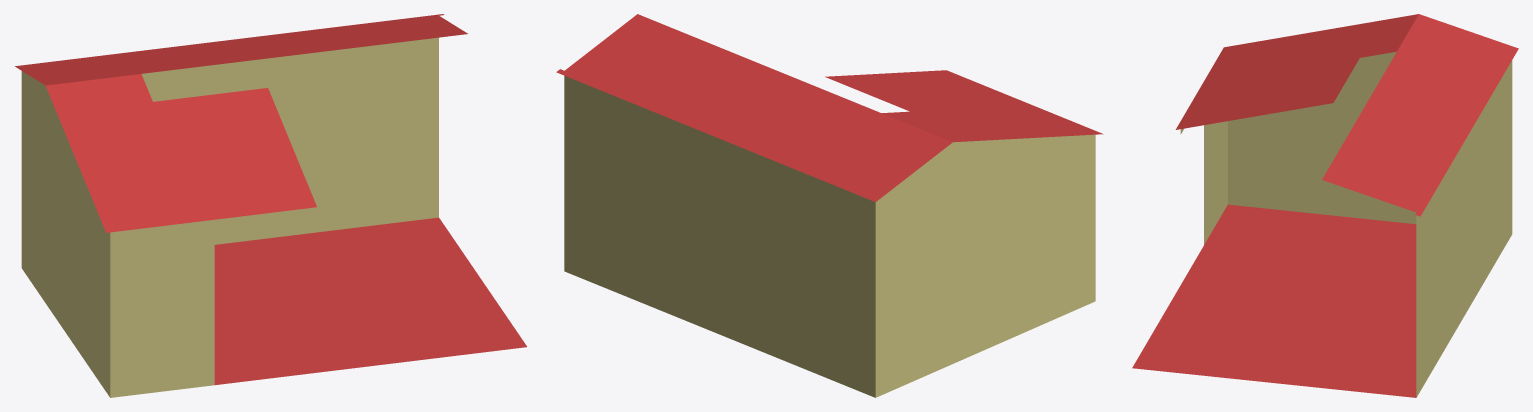
3 views of the same model, side by side, from view 1: azimuth 30°, elevation 25°; view 2: azimuth 150°, elevation 25°; view 3: azimuth 270°, elevation 25° (orthographic). The views are drawn at different scales.
Size of the model in its own units: 21.48 by 17.65 by 10.48.
